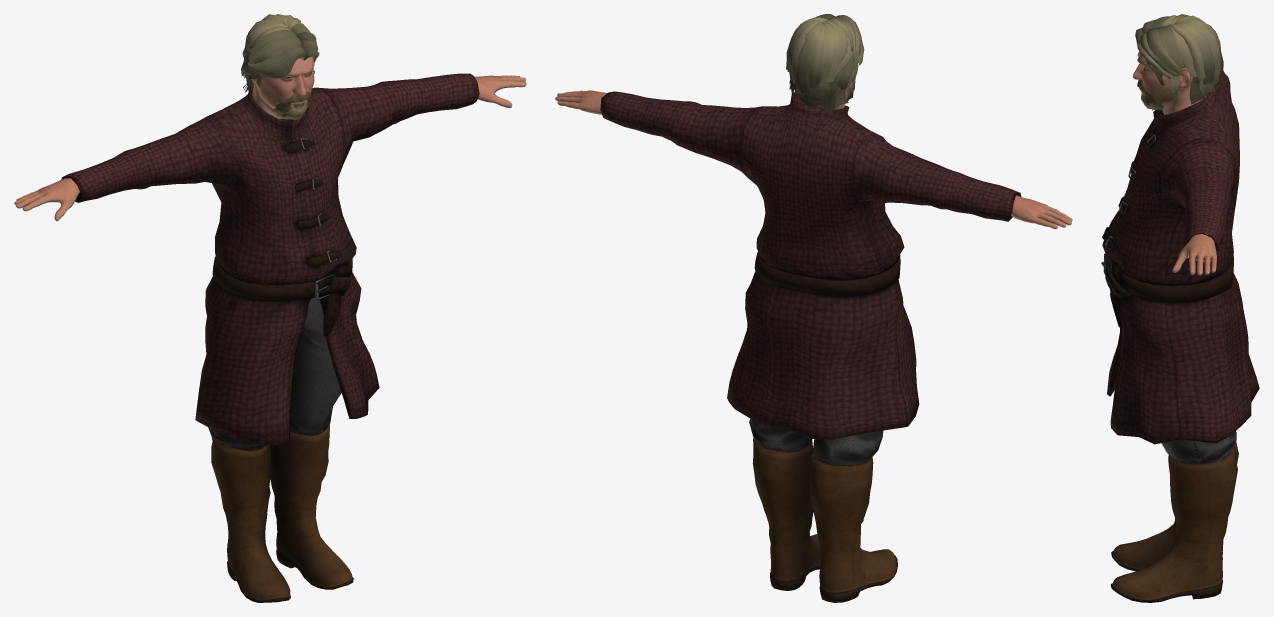
File: theoden.fbx
3 renders of one model, left to right at view 1: azimuth 30°, elevation 25°; view 2: azimuth 150°, elevation 25°; view 3: azimuth 270°, elevation 25°, orthographic.
Visible parts, largest first — view 1: Theoden:Tops, Theoden:Shoes, Theoden:Bottoms, Theoden:Body, Theoden:Hair; view 2: Theoden:Tops, Theoden:Shoes, Theoden:Hair, Theoden:Bottoms, Theoden:Body; view 3: Theoden:Tops, Theoden:Shoes, Theoden:Hair, Theoden:Body, Theoden:Bottoms.
Part boxes in pixels (bbox=[...]): Theoden:Tops: bbox=[61, 73, 479, 445]; Theoden:Shoes: bbox=[211, 423, 353, 602]; Theoden:Bottoms: bbox=[208, 297, 341, 450]; Theoden:Body: bbox=[14, 57, 526, 221]; Theoden:Hair: bbox=[241, 14, 319, 94]; Theoden:Tops: bbox=[600, 91, 1021, 439]; Theoden:Shoes: bbox=[752, 438, 897, 602]; Theoden:Hair: bbox=[786, 14, 864, 111]; Theoden:Bottoms: bbox=[749, 419, 883, 465]; Theoden:Body: bbox=[555, 36, 1072, 229]; Theoden:Tops: bbox=[1101, 70, 1259, 444]; Theoden:Shoes: bbox=[1110, 441, 1238, 602]; Theoden:Hair: bbox=[1135, 14, 1223, 104]; Theoden:Body: bbox=[1133, 30, 1216, 275]; Theoden:Bottoms: bbox=[1127, 274, 1236, 463].
Bounding box in the file's own units: 171 × 179 × 45.7.
7 materials, 7 textured.
